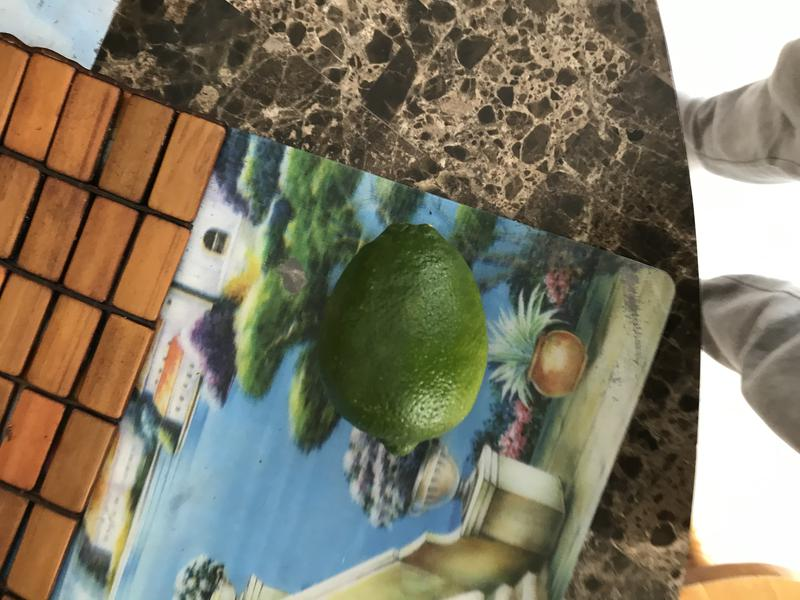lime: (303, 212, 498, 452)
